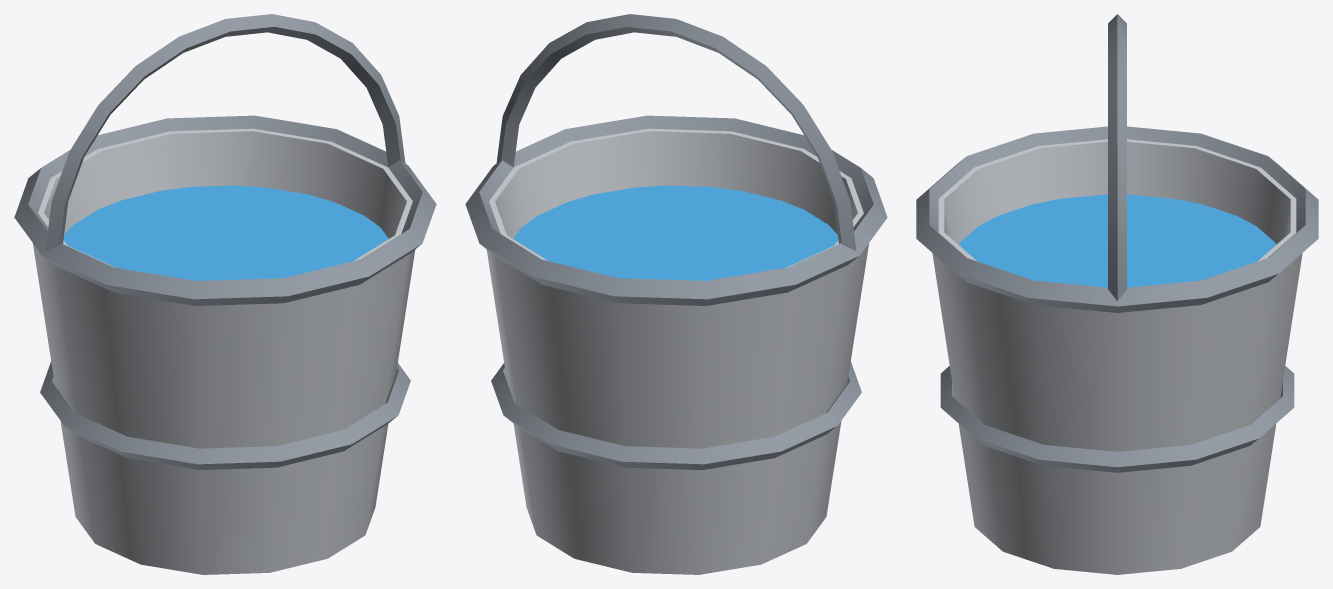
Rendered from Bucket.fbx.
The picture shows the model from 3 angles, left to right: view 1: azimuth 30°, elevation 25°; view 2: azimuth 150°, elevation 25°; view 3: azimuth 270°, elevation 25°; orthographic projection. The views are drawn at different scales.
Visible parts, largest first — view 1: Bucket; view 2: Bucket; view 3: Bucket.
Boxes of the visible parts, <box> form: Bucket: <box>14,14,436,574</box>; Bucket: <box>465,14,887,574</box>; Bucket: <box>916,14,1318,574</box>.
Size of the model in its own units: 1.07 by 1.38 by 1.04.
1 material, 1 textured.
